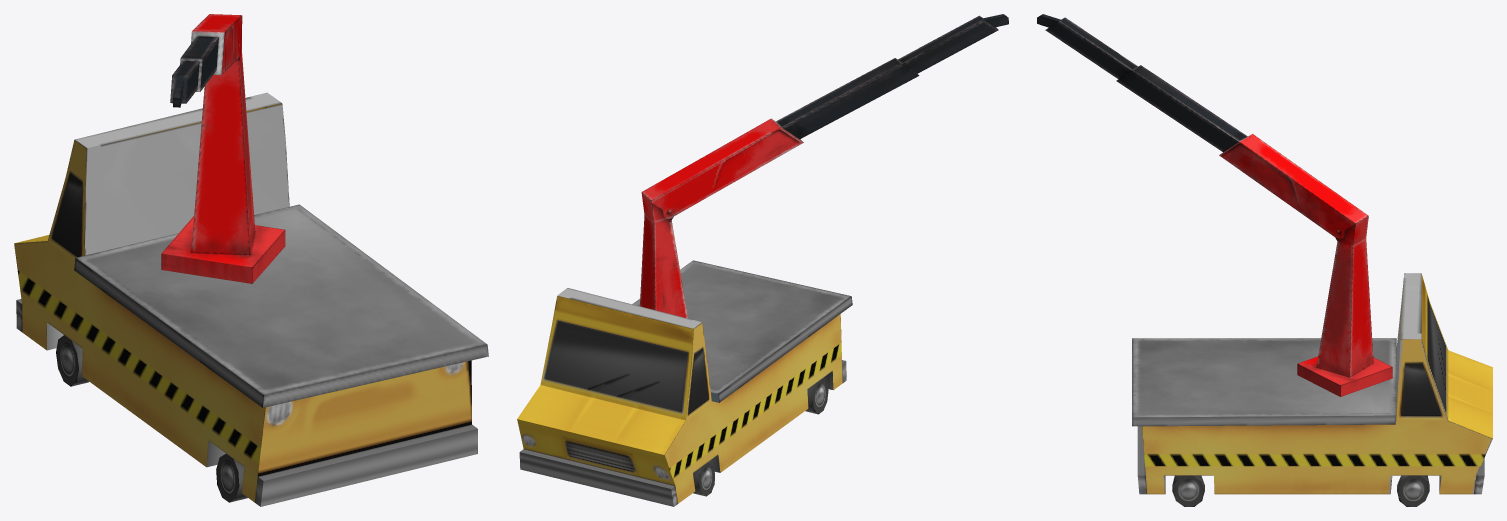
File: evacuator.FBX
3 views of the same model, side by side, from view 1: azimuth 30°, elevation 25°; view 2: azimuth 150°, elevation 25°; view 3: azimuth 270°, elevation 25° (orthographic). The views are drawn at different scales.
Parts seen in each view (by area): view 1: Box067, Box128; view 2: Box067, Box128; view 3: Box067, Box128.
Part boxes in pixels (x1=…): Box067: x1=14, y1=92, x2=488, y2=506; Box128: x1=161, y1=14, x2=285, y2=283; Box067: x1=517, y1=260, x2=852, y2=506; Box128: x1=640, y1=14, x2=1008, y2=318; Box067: x1=1132, y1=273, x2=1492, y2=506; Box128: x1=1037, y1=14, x2=1392, y2=396.
Size of the model in its own units: 82.86 by 109 by 122.
